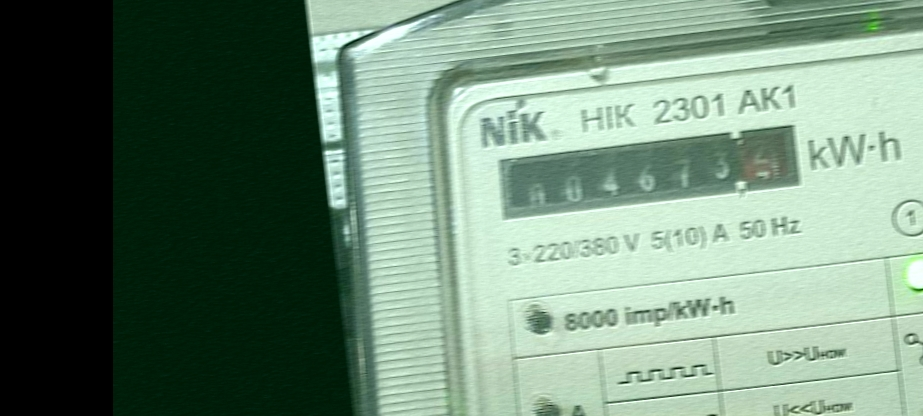0: (527, 180, 551, 212), (565, 174, 586, 207)
2: (751, 136, 774, 170)
3: (713, 150, 734, 185)
4: (602, 165, 624, 202)
6: (636, 161, 661, 197)
7: (674, 157, 700, 196)
screen: (494, 121, 810, 232)
